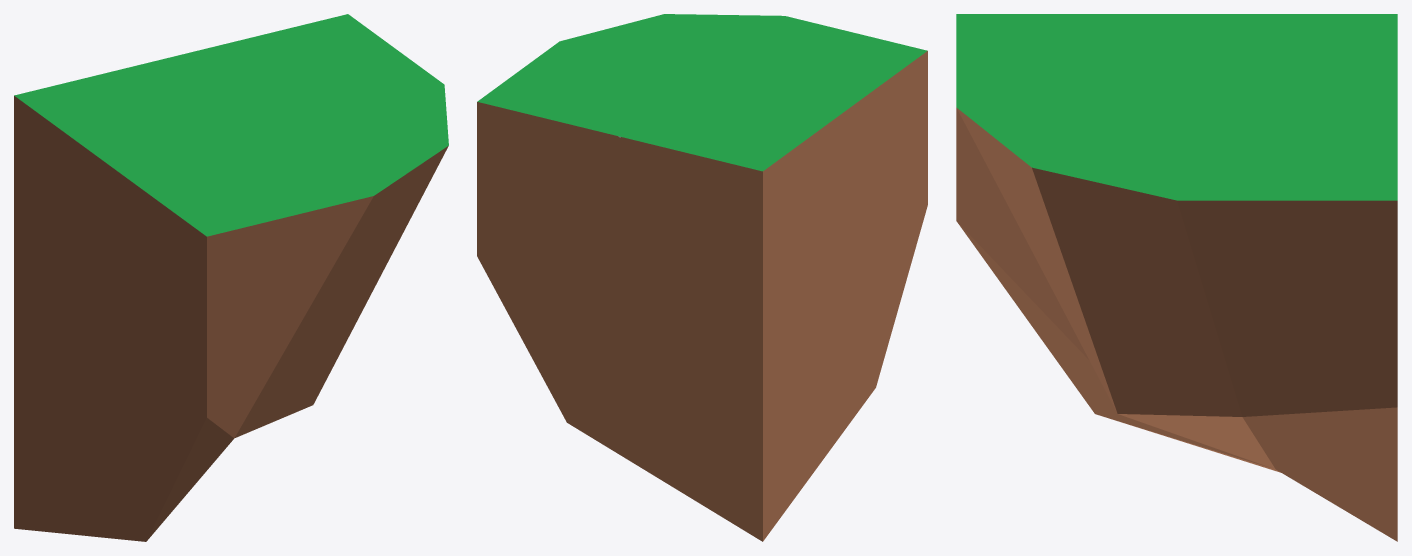
Rendered from Corner.fbx.
The picture shows the model from 3 angles, left to right: view 1: azimuth 30°, elevation 25°; view 2: azimuth 150°, elevation 25°; view 3: azimuth 270°, elevation 25°; orthographic projection. The views are drawn at different scales.
Visible parts, largest first — view 1: Corner; view 2: Corner; view 3: Corner.
Part boxes in pixels (<box>): Corner: <box>14,14,448,541</box>; Corner: <box>477,14,927,541</box>; Corner: <box>956,14,1397,541</box>.
Bounding box in the file's own units: 50 × 61.95 × 50.
